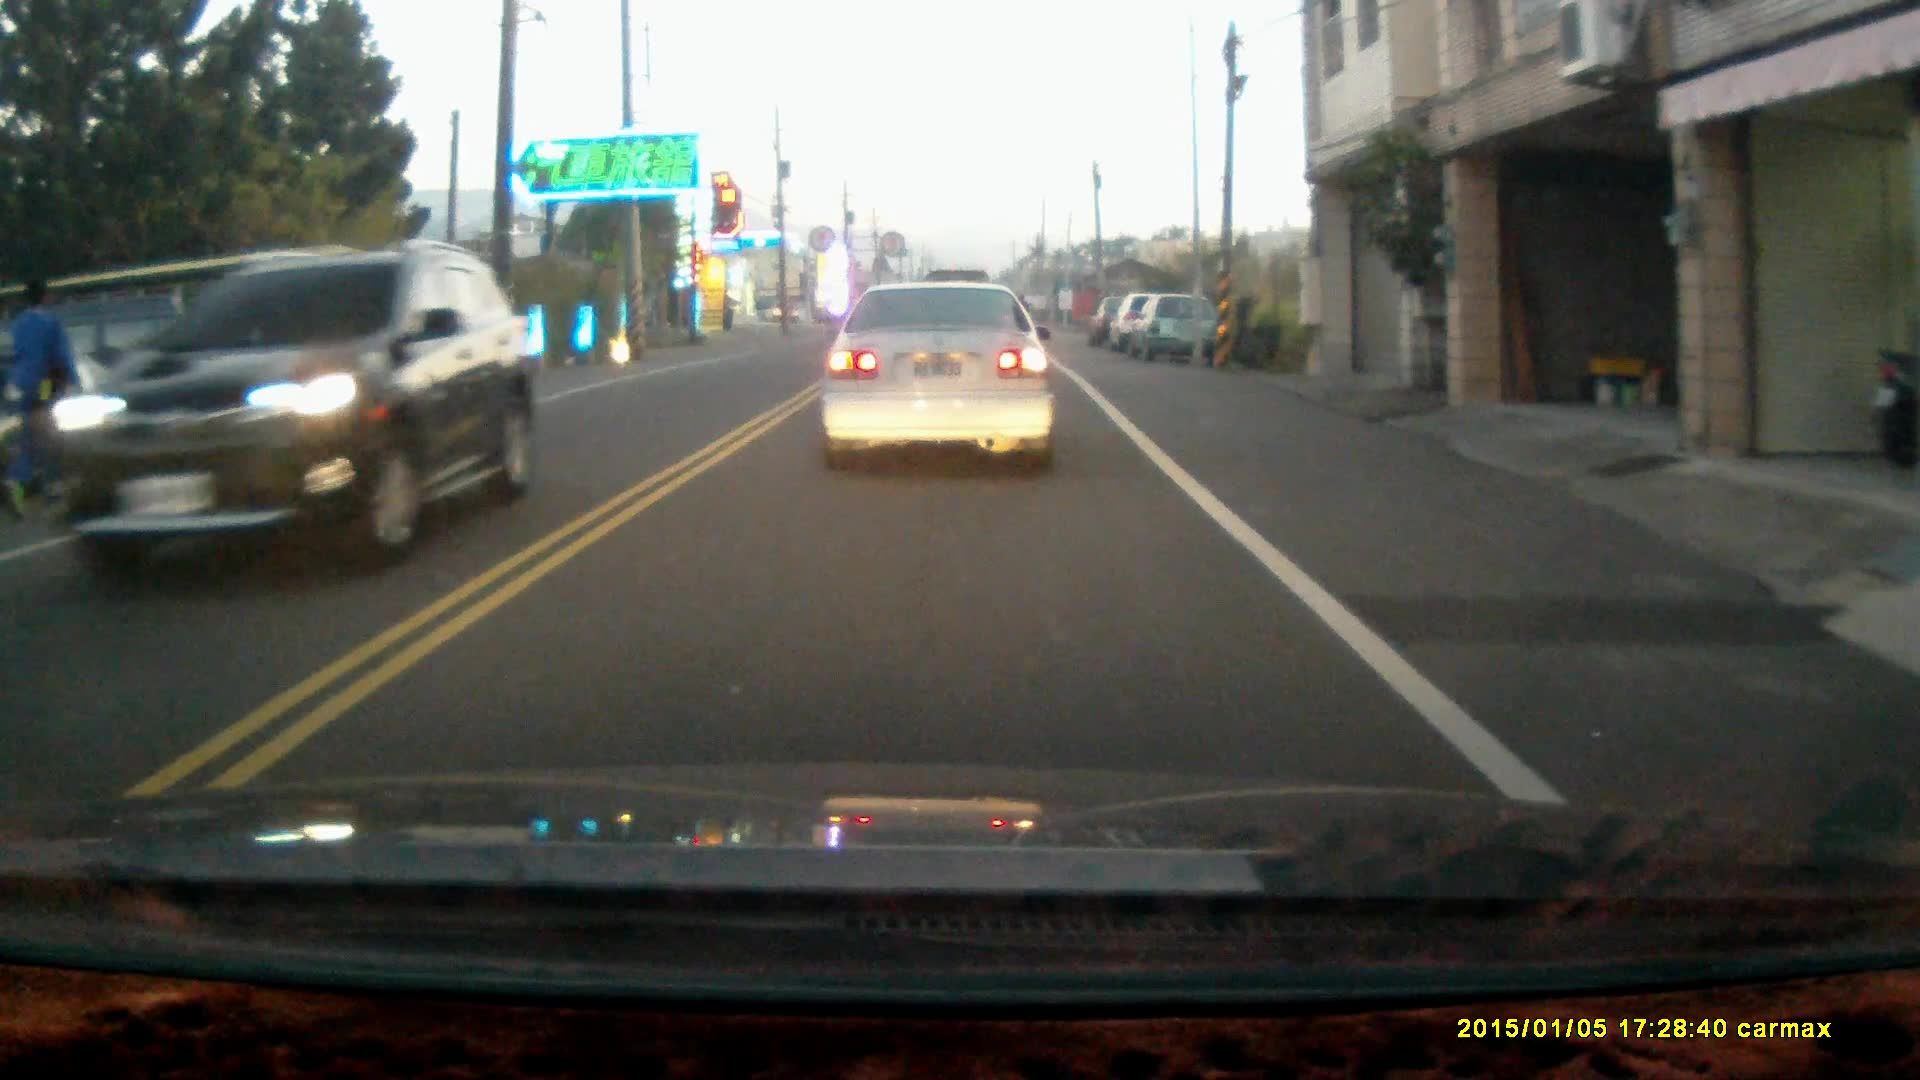pedestrian: (0, 278, 80, 521)
vehicle: (40, 239, 510, 566), (818, 279, 1057, 471), (1, 327, 186, 502), (1125, 294, 1219, 364)
